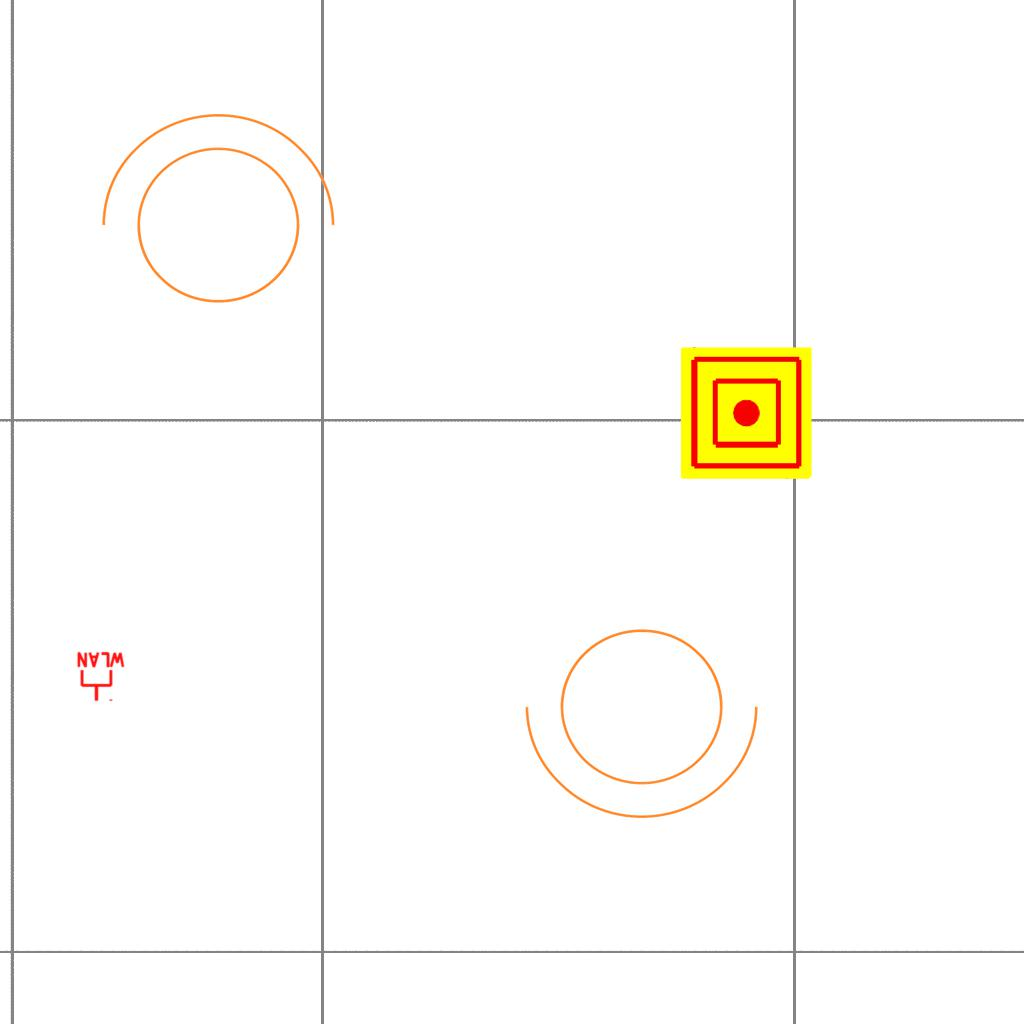NAM-Nichtautomatischer_Melder: (680, 347, 812, 479)
Scheinwerfer_fuer_Alarmbeleuchtung: (516, 604, 780, 829), (80, 103, 344, 328)
WLAN: (75, 651, 127, 703)
